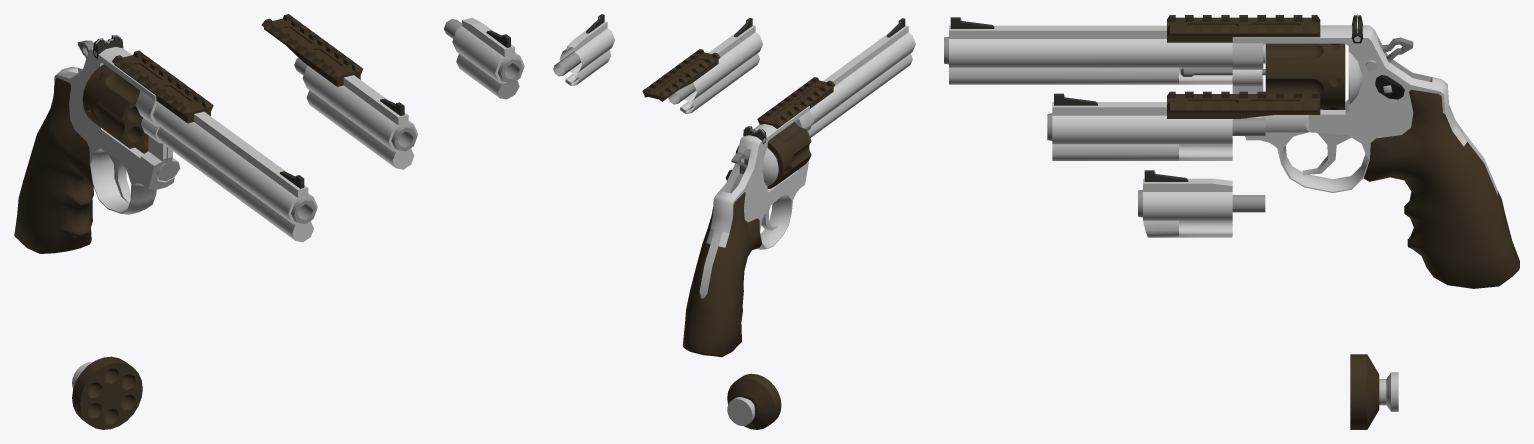
File: DemoFacility_Revolver.FBX
3 views of the same model, side by side, from view 1: azimuth 30°, elevation 25°; view 2: azimuth 150°, elevation 25°; view 3: azimuth 270°, elevation 25° (orthographic). The views are drawn at different scales.
Parts seen in each view (by area): view 1: DFRev_Revolver, DFRev_Barrel_Long, DFRev_Barrel_Mid, DFRev_SpeedLoader, DFRev_Barrel_Short, DFRev_Drum, DFRev_Trigger; view 2: DFRev_Revolver, DFRev_Barrel_Long, DFRev_Barrel_Mid, DFRev_Barrel_Short, DFRev_SpeedLoader, DFRev_Drum, DFRev_SpeedLoaderTwist, DFRev_Hammer; view 3: DFRev_Revolver, DFRev_Barrel_Long, DFRev_Barrel_Mid, DFRev_Barrel_Short, DFRev_Drum, DFRev_SpeedLoader, DFRev_SwingArm, DFRev_SpeedLoaderTwist, DFRev_Trigger.
Part boxes in pixels (x1,y1,x2,y2): DFRev_Revolver: (14,34,174,253); DFRev_Barrel_Long: (112,50,317,242); DFRev_Barrel_Mid: (261,14,418,169); DFRev_SpeedLoader: (72,356,142,429); DFRev_Barrel_Short: (444,18,524,99); DFRev_Drum: (82,64,148,153); DFRev_Trigger: (108,153,130,203); DFRev_Revolver: (682,106,813,357); DFRev_Barrel_Long: (757,18,915,137); DFRev_Barrel_Mid: (642,18,762,113); DFRev_Barrel_Short: (553,14,614,85); DFRev_SpeedLoader: (727,373,781,429); DFRev_Drum: (735,121,811,188); DFRev_SpeedLoaderTwist: (727,397,755,425); DFRev_Hammer: (730,148,750,193); DFRev_Revolver: (1232,14,1519,288); DFRev_Barrel_Long: (944,15,1320,84); DFRev_Barrel_Mid: (1047,91,1320,160); DFRev_Barrel_Short: (1138,170,1265,237); DFRev_Drum: (1265,43,1345,109); DFRev_SpeedLoader: (1350,354,1379,429); DFRev_SwingArm: (1232,69,1262,118); DFRev_SpeedLoaderTwist: (1379,372,1398,411); DFRev_Trigger: (1302,133,1351,174).
Size of the model in its own units: 23.09 by 24.89 by 31.82.
